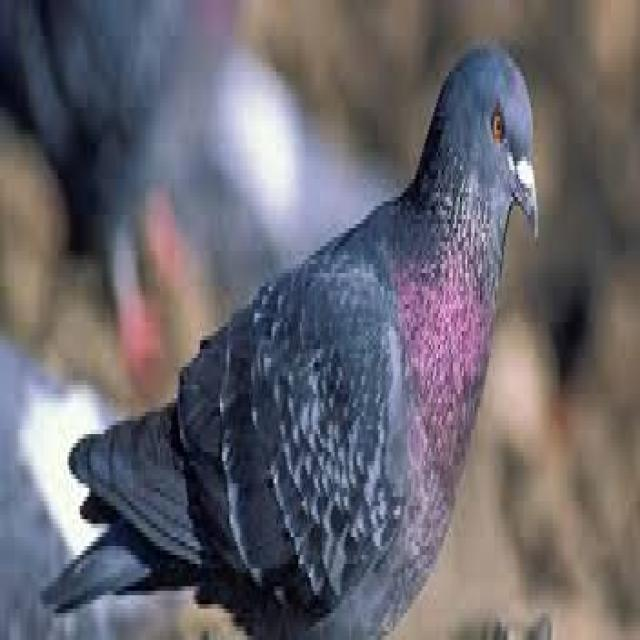Pigeon: (34, 44, 540, 634)
